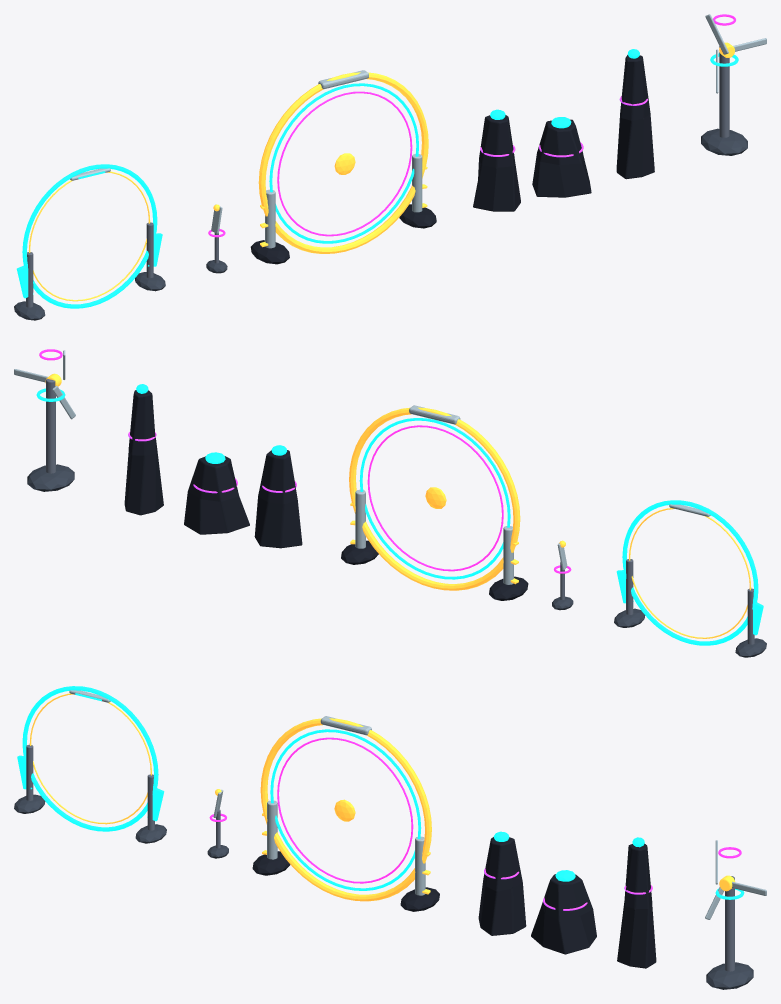
File: horizon-course-kit.glb
3 views of the same model, one above another, from view 1: azimuth 30°, elevation 25°; view 2: azimuth 150°, elevation 25°; view 3: azimuth 330°, elevation 25° (orthographic).
Parts seen in each view (by area): view 1: FinishCrown, Monolith_C_Body, Monolith_B_Body, Monolith_A_Body, GateAssembly_PrismRing, SolarTurbine_Float, SolarTurbine_Mast, FinishCrown_Float_L, GateAssembly_InnerGold, SolarTurbine, FinishCrown_Float_R, FinishCrown_Pillar_R (+1 smaller); view 2: FinishCrown, Monolith_B_Body, Monolith_A_Body, Monolith_C_Body, GateAssembly_PrismRing, SolarTurbine_Float, SolarTurbine_Mast, GateAssembly_InnerGold, FinishCrown_Float_L, FinishCrown_Pillar_R, FinishCrown_Float_R, FinishCrown_Pillar_L (+1 smaller); view 3: FinishCrown, Monolith_B_Body, Monolith_A_Body, Monolith_C_Body, GateAssembly_PrismRing, SolarTurbine_Float, SolarTurbine_Mast, FinishCrown_Float_R, GateAssembly_InnerGold, FinishCrown_Float_L, FinishCrown_Pillar_L, SolarTurbine (+1 smaller).
Part boxes in pixels (x1,y1,x2,y2): FinishCrown: (258,72,428,253); Monolith_C_Body: (616,55,654,179); Monolith_B_Body: (532,119,591,197); Monolith_A_Body: (473,115,520,211); GateAssembly_PrismRing: (22,164,157,308); SolarTurbine_Float: (701,128,747,155); SolarTurbine_Mast: (719,46,729,137); FinishCrown_Float_L: (250,240,289,264); GateAssembly_InnerGold: (28,171,150,301); SolarTurbine: (705,14,766,93); FinishCrown_Float_R: (399,204,436,228); FinishCrown_Pillar_R: (412,154,422,212); FinishCrown: (349,407,520,590); Monolith_B_Body: (184,456,249,534); Monolith_A_Body: (254,450,302,548); Monolith_C_Body: (124,390,163,515); GateAssembly_PrismRing: (622,500,758,645); SolarTurbine_Float: (27,464,74,491); SolarTurbine_Mast: (46,378,55,473); GateAssembly_InnerGold: (629,508,751,638); FinishCrown_Float_L: (489,576,528,600); FinishCrown_Pillar_R: (355,489,365,548); FinishCrown_Float_R: (341,540,378,564); FinishCrown_Pillar_L: (503,526,513,584); FinishCrown: (260,718,431,901); Monolith_B_Body: (531,874,596,954); Monolith_A_Body: (478,837,526,935); Monolith_C_Body: (617,843,656,968); GateAssembly_PrismRing: (22,686,158,831); SolarTurbine_Float: (706,962,753,989); SolarTurbine_Mast: (725,876,734,971); FinishCrown_Float_R: (400,887,439,911); GateAssembly_InnerGold: (29,693,151,824); FinishCrown_Float_L: (252,851,290,875); FinishCrown_Pillar_L: (267,800,277,859); SolarTurbine: (705,840,766,919).
Bounding box in the file's own units: 82.34 × 18.68 × 6.11.
